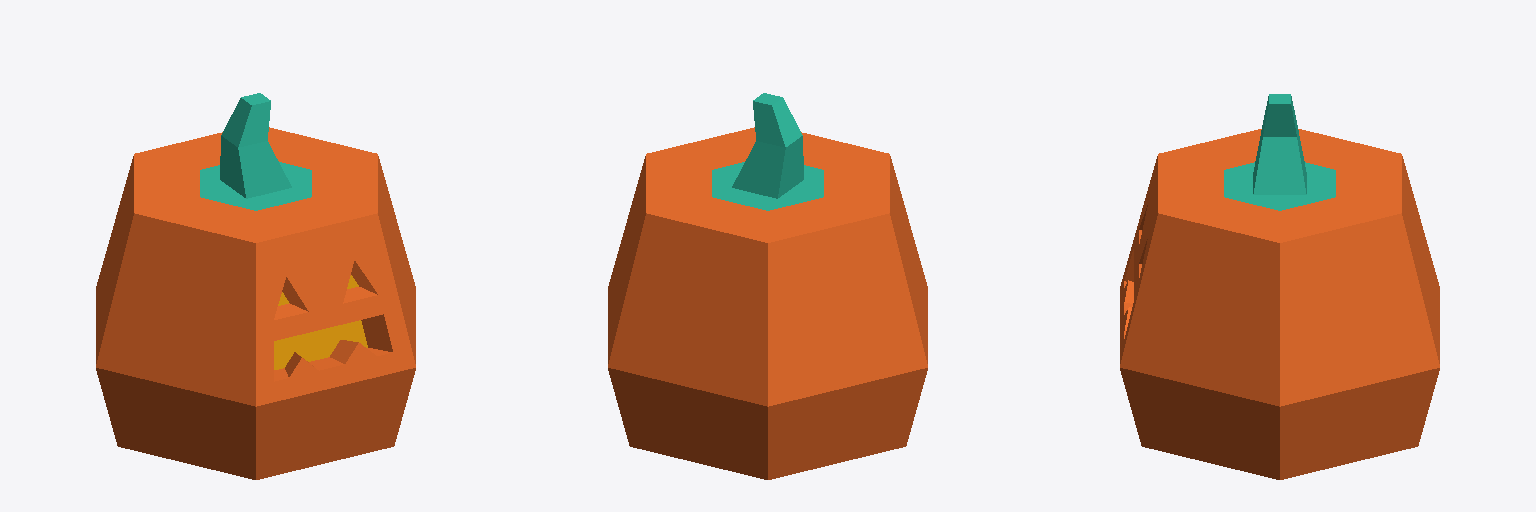
The model's file is pumpkinTallCarved.obj.
3 renders of one model, left to right at view 1: azimuth 30°, elevation 25°; view 2: azimuth 150°, elevation 25°; view 3: azimuth 270°, elevation 25°, orthographic.
Parts seen in each view (by area): view 1: pumpkinTallCarved; view 2: pumpkinTallCarved; view 3: pumpkinTallCarved.
Boxes of the visible parts, x1,y1,x2,y2 form: pumpkinTallCarved: [96, 93, 415, 479]; pumpkinTallCarved: [608, 93, 927, 479]; pumpkinTallCarved: [1120, 94, 1439, 479].
Size of the model in its own units: 0.2784 by 0.26 by 0.2411.